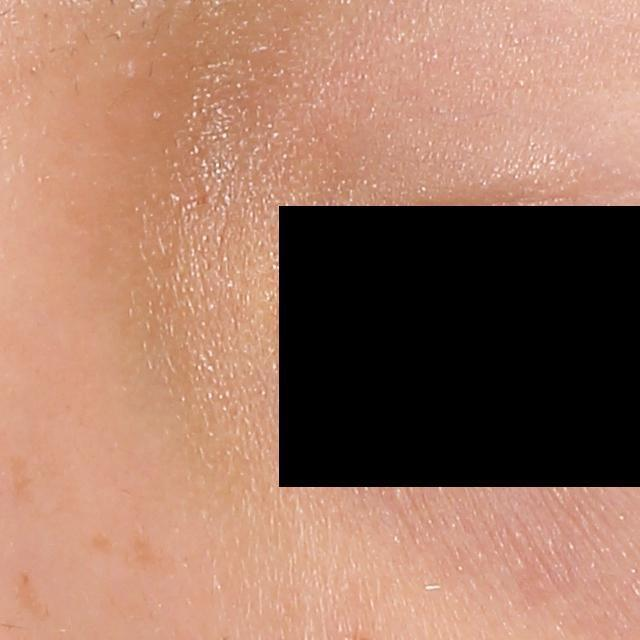melasma: (122, 527, 177, 578), (16, 572, 49, 621), (8, 453, 38, 500), (89, 527, 119, 557)
